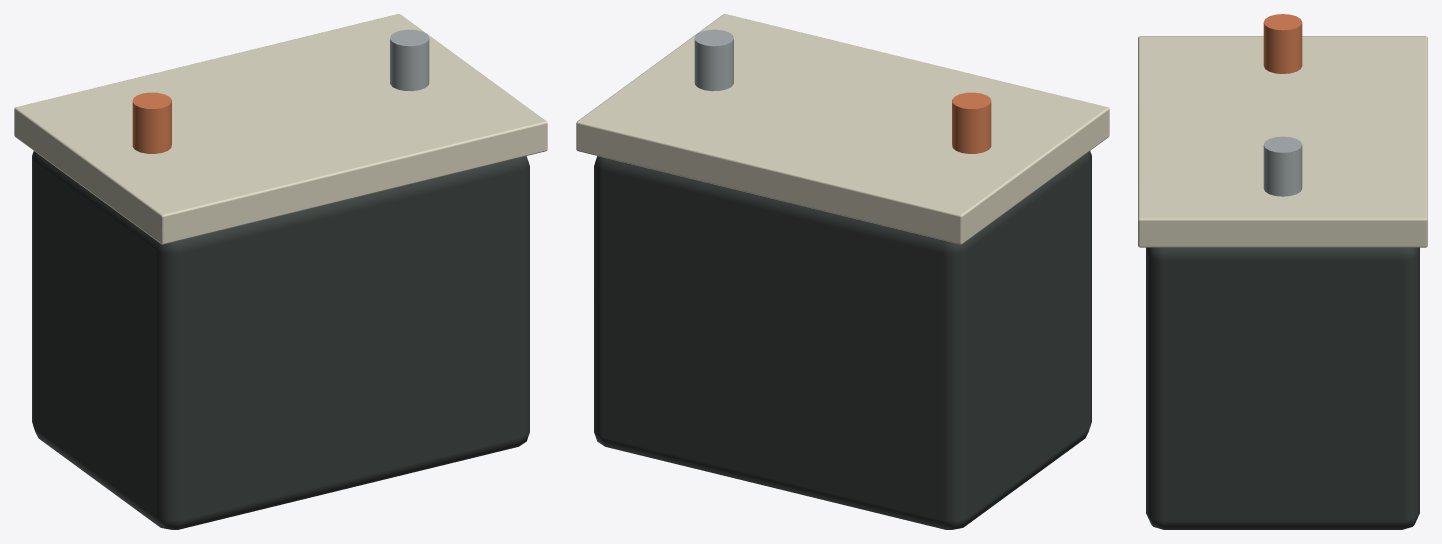
The model's file is off-grid-power-and-controls-lead-acid-battery-4d30b50f__2979.glb.
The picture shows the model from 3 angles, left to right: view 1: azimuth 30°, elevation 25°; view 2: azimuth 150°, elevation 25°; view 3: azimuth 270°, elevation 25°; orthographic projection. The views are drawn at different scales.
Visible parts, largest first — view 1: lead-acid-battery; view 2: lead-acid-battery; view 3: lead-acid-battery.
Part boxes in pixels (x1=…): lead-acid-battery: x1=14, y1=14, x2=547, y2=529; lead-acid-battery: x1=576, y1=14, x2=1109, y2=529; lead-acid-battery: x1=1138, y1=14, x2=1427, y2=529.
Size of the model in its own units: 0.27 by 0.25 by 0.18.
